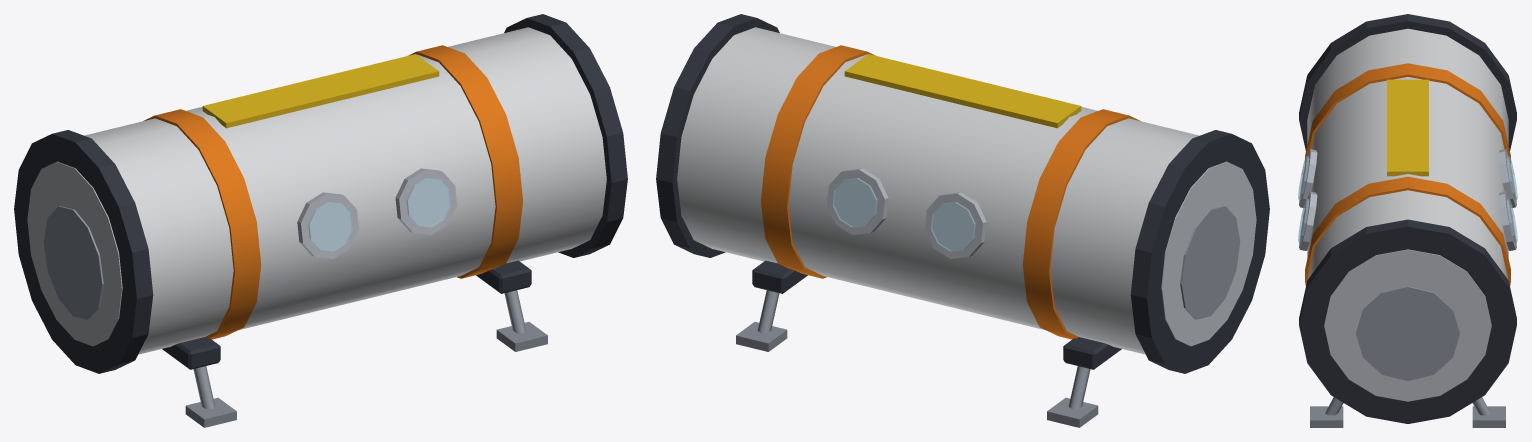
The picture shows the model from 3 angles, left to right: view 1: azimuth 30°, elevation 25°; view 2: azimuth 150°, elevation 25°; view 3: azimuth 270°, elevation 25°; orthographic projection. The views are drawn at different scales.
Parts seen in each view (by area): view 1: Body; view 2: Body; view 3: Body.
Boxes of the visible parts, x1,y1,x2,y2 form: Body: (14,14,627,427); Body: (656,14,1269,427); Body: (1298,14,1517,427).
Size of the model in its own units: 6.06 by 3.08 by 2.62.
